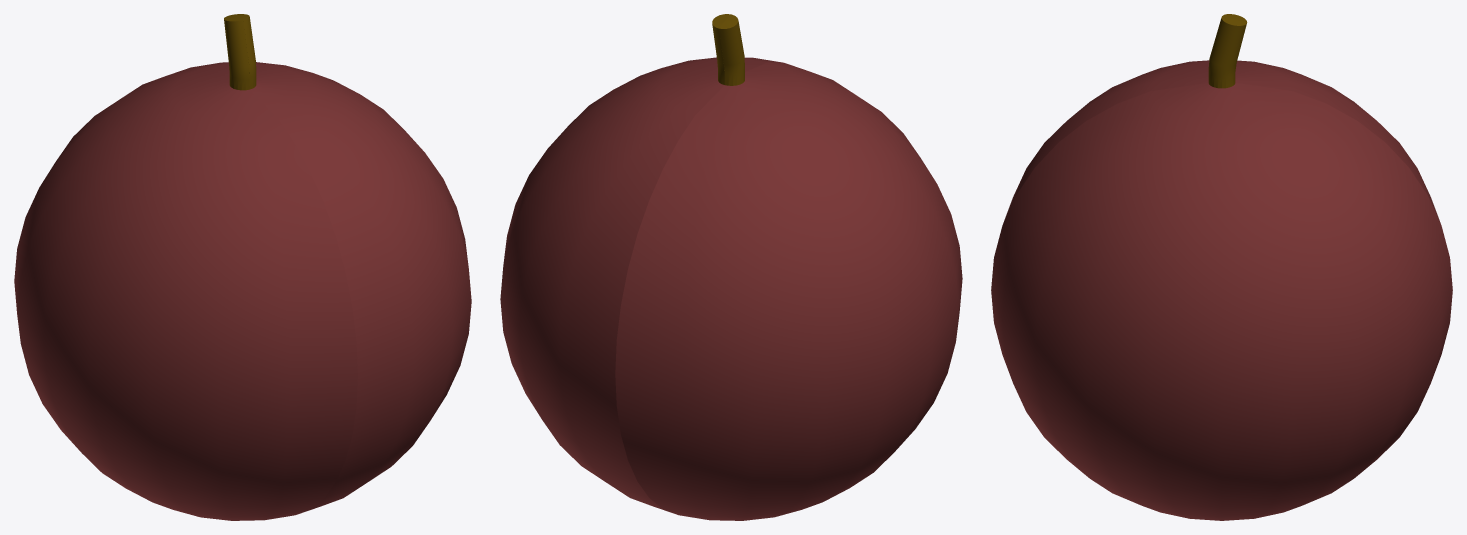
Rendered from Apple_sliced.fbx.
The picture shows the model from 3 angles, left to right: view 1: azimuth 30°, elevation 25°; view 2: azimuth 150°, elevation 25°; view 3: azimuth 270°, elevation 25°; orthographic projection.
Visible parts, largest first — view 1: Apple2, Apple1; view 2: Apple2, Apple1; view 3: Apple1, Apple2.
Boxes of the visible parts, <box> form: Apple2: <box>14,15,357,520</box>; Apple1: <box>193,14,471,513</box>; Apple2: <box>615,14,962,520</box>; Apple1: <box>500,14,782,513</box>; Apple1: <box>991,17,1452,520</box>; Apple2: <box>1003,14,1440,223</box>.
Size of the model in its own units: 0.02 by 0.0225 by 0.02.
